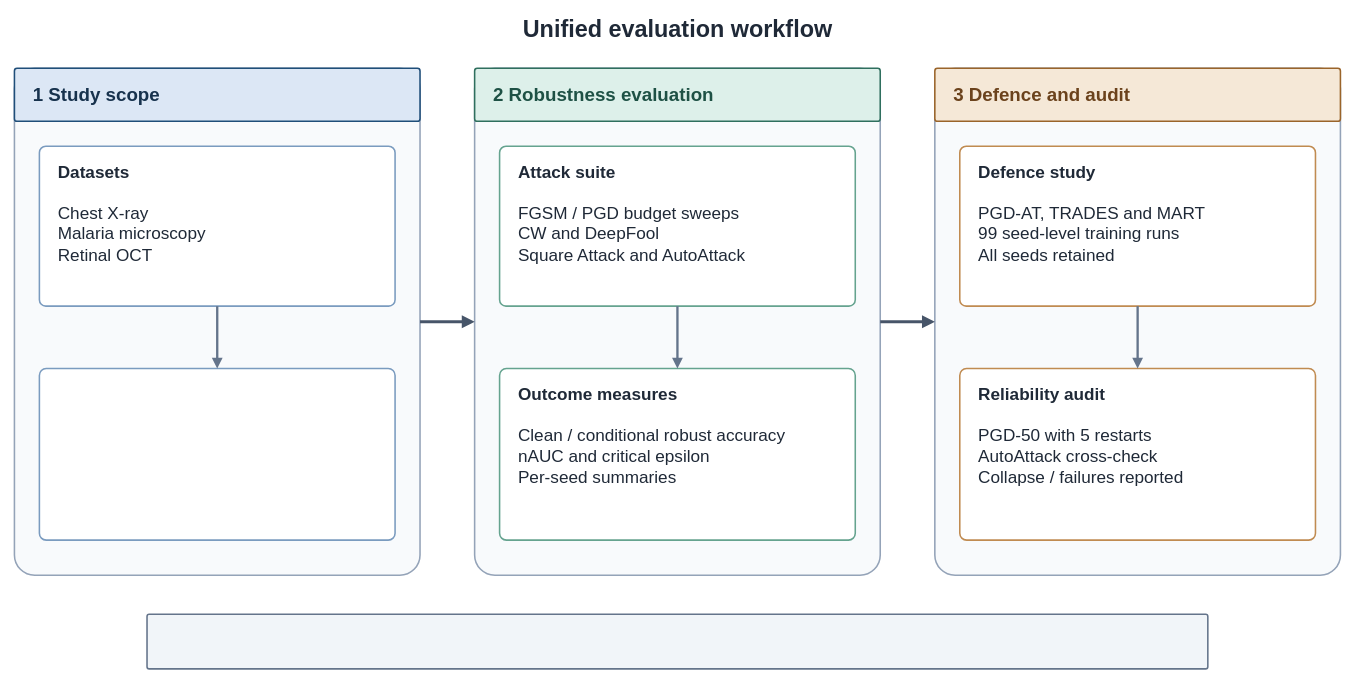
Image size: 1354x683. Some labels were removed from this diagram. Here are the shapes that lost their labels. From the top down, the box of each, then its label:
(38, 367, 395, 541): Model grid ResNet-18/34/50/101/152 Extensions: DeiT-S, ConvNeXt-T 3 random seeds
(146, 613, 1208, 669): Unified protocol: modality x architecture x attack x budget x defence
